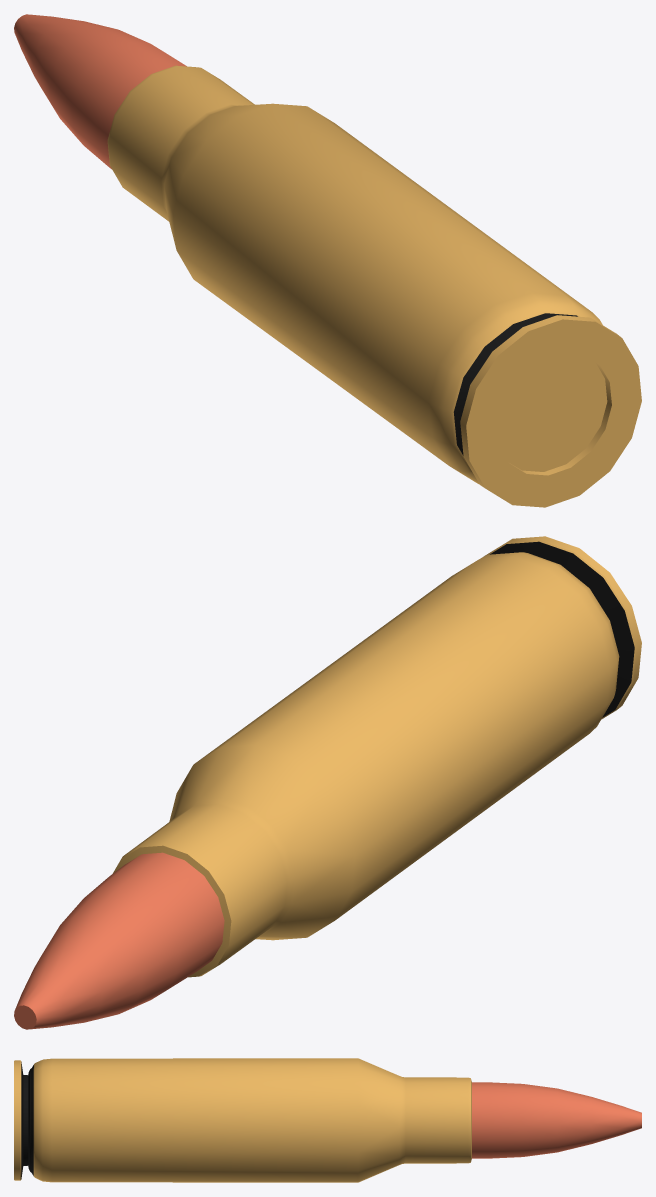
The model's file is bullet.fbx.
3 renders of one model, top to bottom at view 1: azimuth 30°, elevation 25°; view 2: azimuth 150°, elevation 25°; view 3: azimuth 270°, elevation 25°, orthographic. The views are drawn at different scales.
Parts seen in each view (by area): view 1: Cylinder; view 2: Cylinder; view 3: Cylinder.
Part boxes in pixels (<box>): Cylinder: <box>14,14,641,507</box>; Cylinder: <box>14,536,641,1029</box>; Cylinder: <box>14,1058,641,1182</box>.
Bounding box in the file's own units: 179 × 179 × 901.
